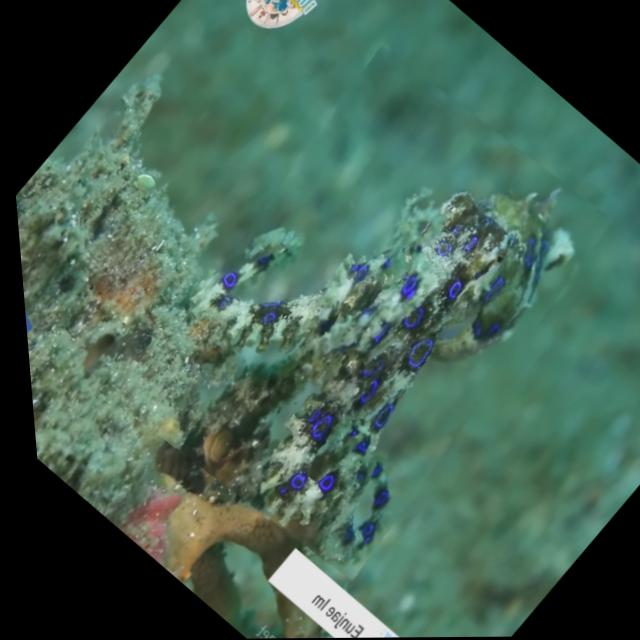blue_ringed_octopus: (75, 38, 640, 587)
